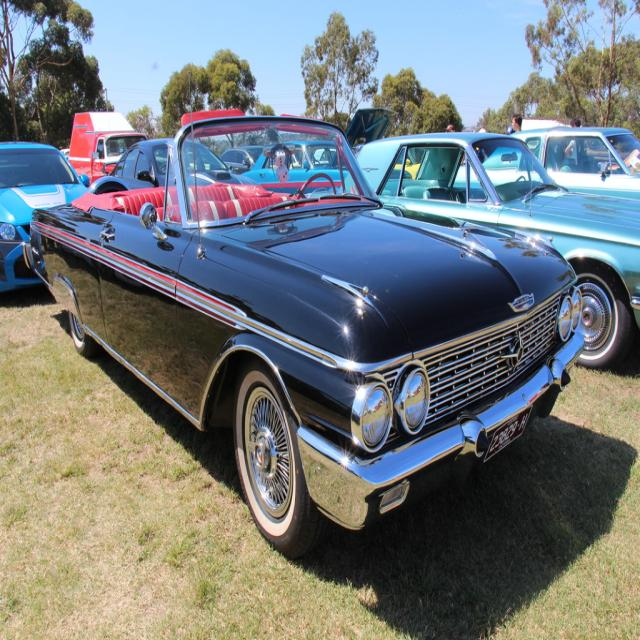car: (30, 63, 589, 560)
